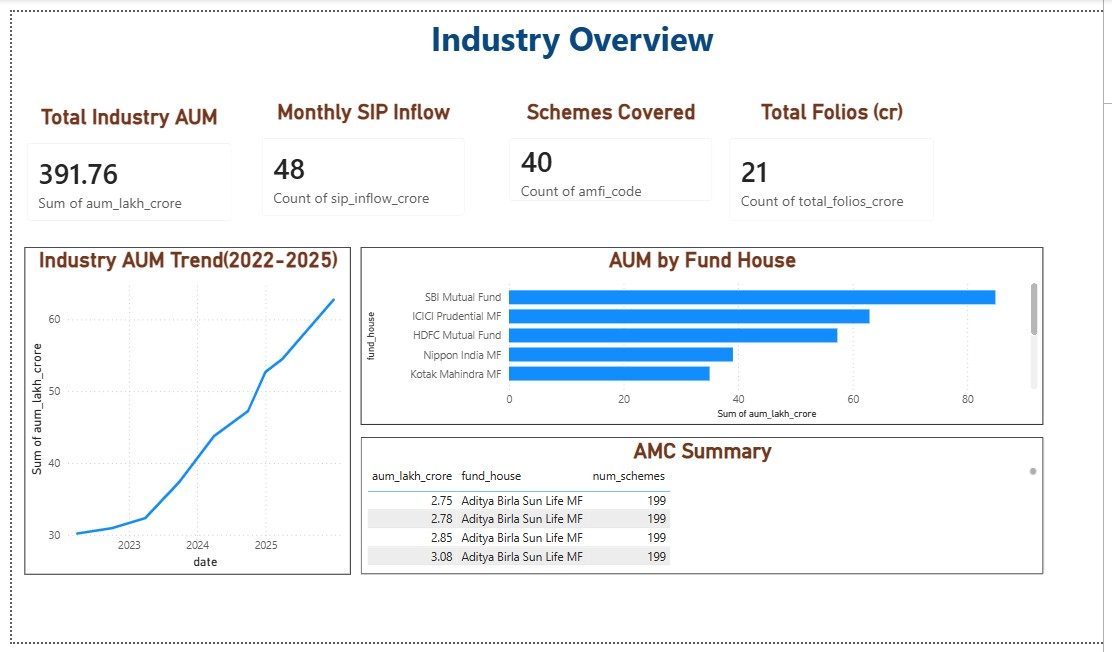

What the dashboard file says about the page in this screenshot:
{"tool":"powerbi","page":{"name":"Industry overview","canvas":[1280,720],"ordinal":0},"visuals":[{"type":"clusteredBarChart","title":"AUM by Fund House","fields":{"Category":["03_aum_by_fund_house.fund_house"],"Y":["Sum(03_aum_by_fund_house.aum_lakh_crore)"]},"box":[398.7,268.2,780.1,203],"z":0},{"type":"lineChart","title":"Industry AUM Trend(2022-2025)","fields":{"Y":["Sum(03_aum_by_fund_house.aum_lakh_crore)"],"Category":["03_aum_by_fund_house.date"]},"box":[14.5,268.2,372.6,374.1],"z":1000},{"type":"textbox","box":[0,0,1280.3,78.3],"z":2000},{"type":"cardVisual","title":"Total Industry AUM","fields":{"Data":["Sum(03_aum_by_fund_house.aum_lakh_crore)"]},"box":[0,105.8,268.2,150.8],"z":3000},{"type":"cardVisual","title":"Monthly SIP Inflow","fields":{"Data":["CountNonNull(04_monthly_sip_inflows.sip_inflow_crore)"]},"box":[268.2,100,266.8,150.8],"z":4000},{"type":"cardVisual","title":"Total Folios (cr)","fields":{"Data":["CountNonNull(06_industry_folio_count.total_folios_crore)"]},"box":[803.3,100,268.2,156.6],"z":5000},{"type":"cardVisual","title":"Schemes Covered","fields":{"Data":["Count(01_fund_master.amfi_code)"]},"box":[551,100,266.8,133.4],"z":6000},{"type":"tableEx","title":"AMC Summary","fields":{"Values":["03_aum_by_fund_house.aum_lakh_crore","03_aum_by_fund_house.fund_house","03_aum_by_fund_house.num_schemes"]},"box":[398.7,485.7,780.1,156.6],"z":7000}]}

Visuals, with their boxes on the page's 1280x720 design canvas (x1, y1, x2, y2). These are canvas units, not pixel positions in the 1112x652 screenshot, which may show the page scaled, cropped or inside an application window:
"AUM by Fund House" clusteredBarChart: detection(399, 268, 1179, 471)
"Industry AUM Trend(2022-2025)" lineChart: detection(14, 268, 387, 642)
textbox: detection(0, 0, 1280, 78)
"Total Industry AUM" cardVisual: detection(0, 106, 268, 257)
"Monthly SIP Inflow" cardVisual: detection(268, 100, 535, 251)
"Total Folios (cr)" cardVisual: detection(803, 100, 1072, 257)
"Schemes Covered" cardVisual: detection(551, 100, 818, 233)
"AMC Summary" tableEx: detection(399, 486, 1179, 642)
